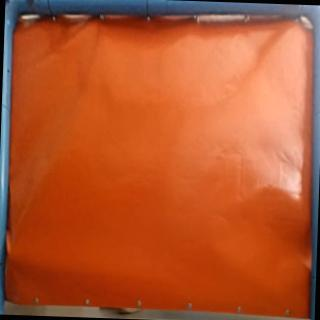Hit-hRxx: (4, 242, 16, 258)
